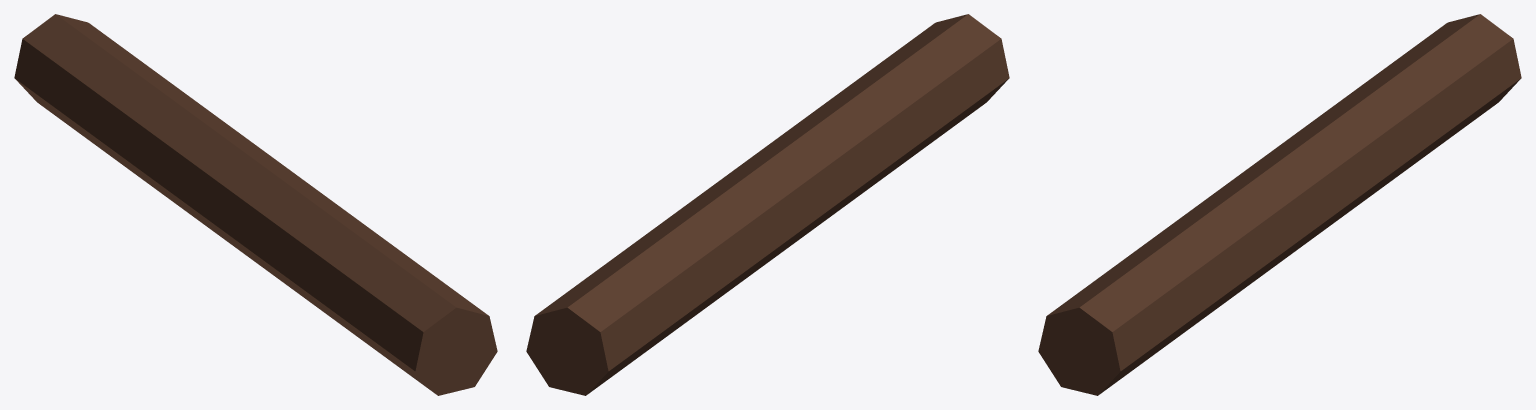
Rendered from Chump.fbx.
3 views of the same model, side by side, from view 1: azimuth 30°, elevation 25°; view 2: azimuth 150°, elevation 25°; view 3: azimuth 330°, elevation 25° (orthographic).
Parts seen in each view (by area): view 1: Chump; view 2: Chump; view 3: Chump.
Part boxes in pixels (box(x1,y1,x2,y2)): Chump: box(14, 14, 497, 395); Chump: box(526, 14, 1009, 395); Chump: box(1038, 14, 1521, 395).
Bounding box in the file's own units: 0.2985 × 0.291 × 2.52.
